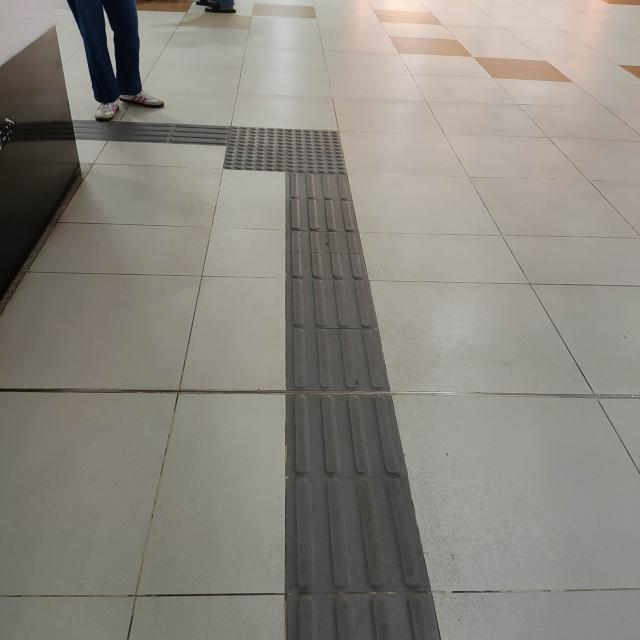kiri: (156, 109, 374, 197)
